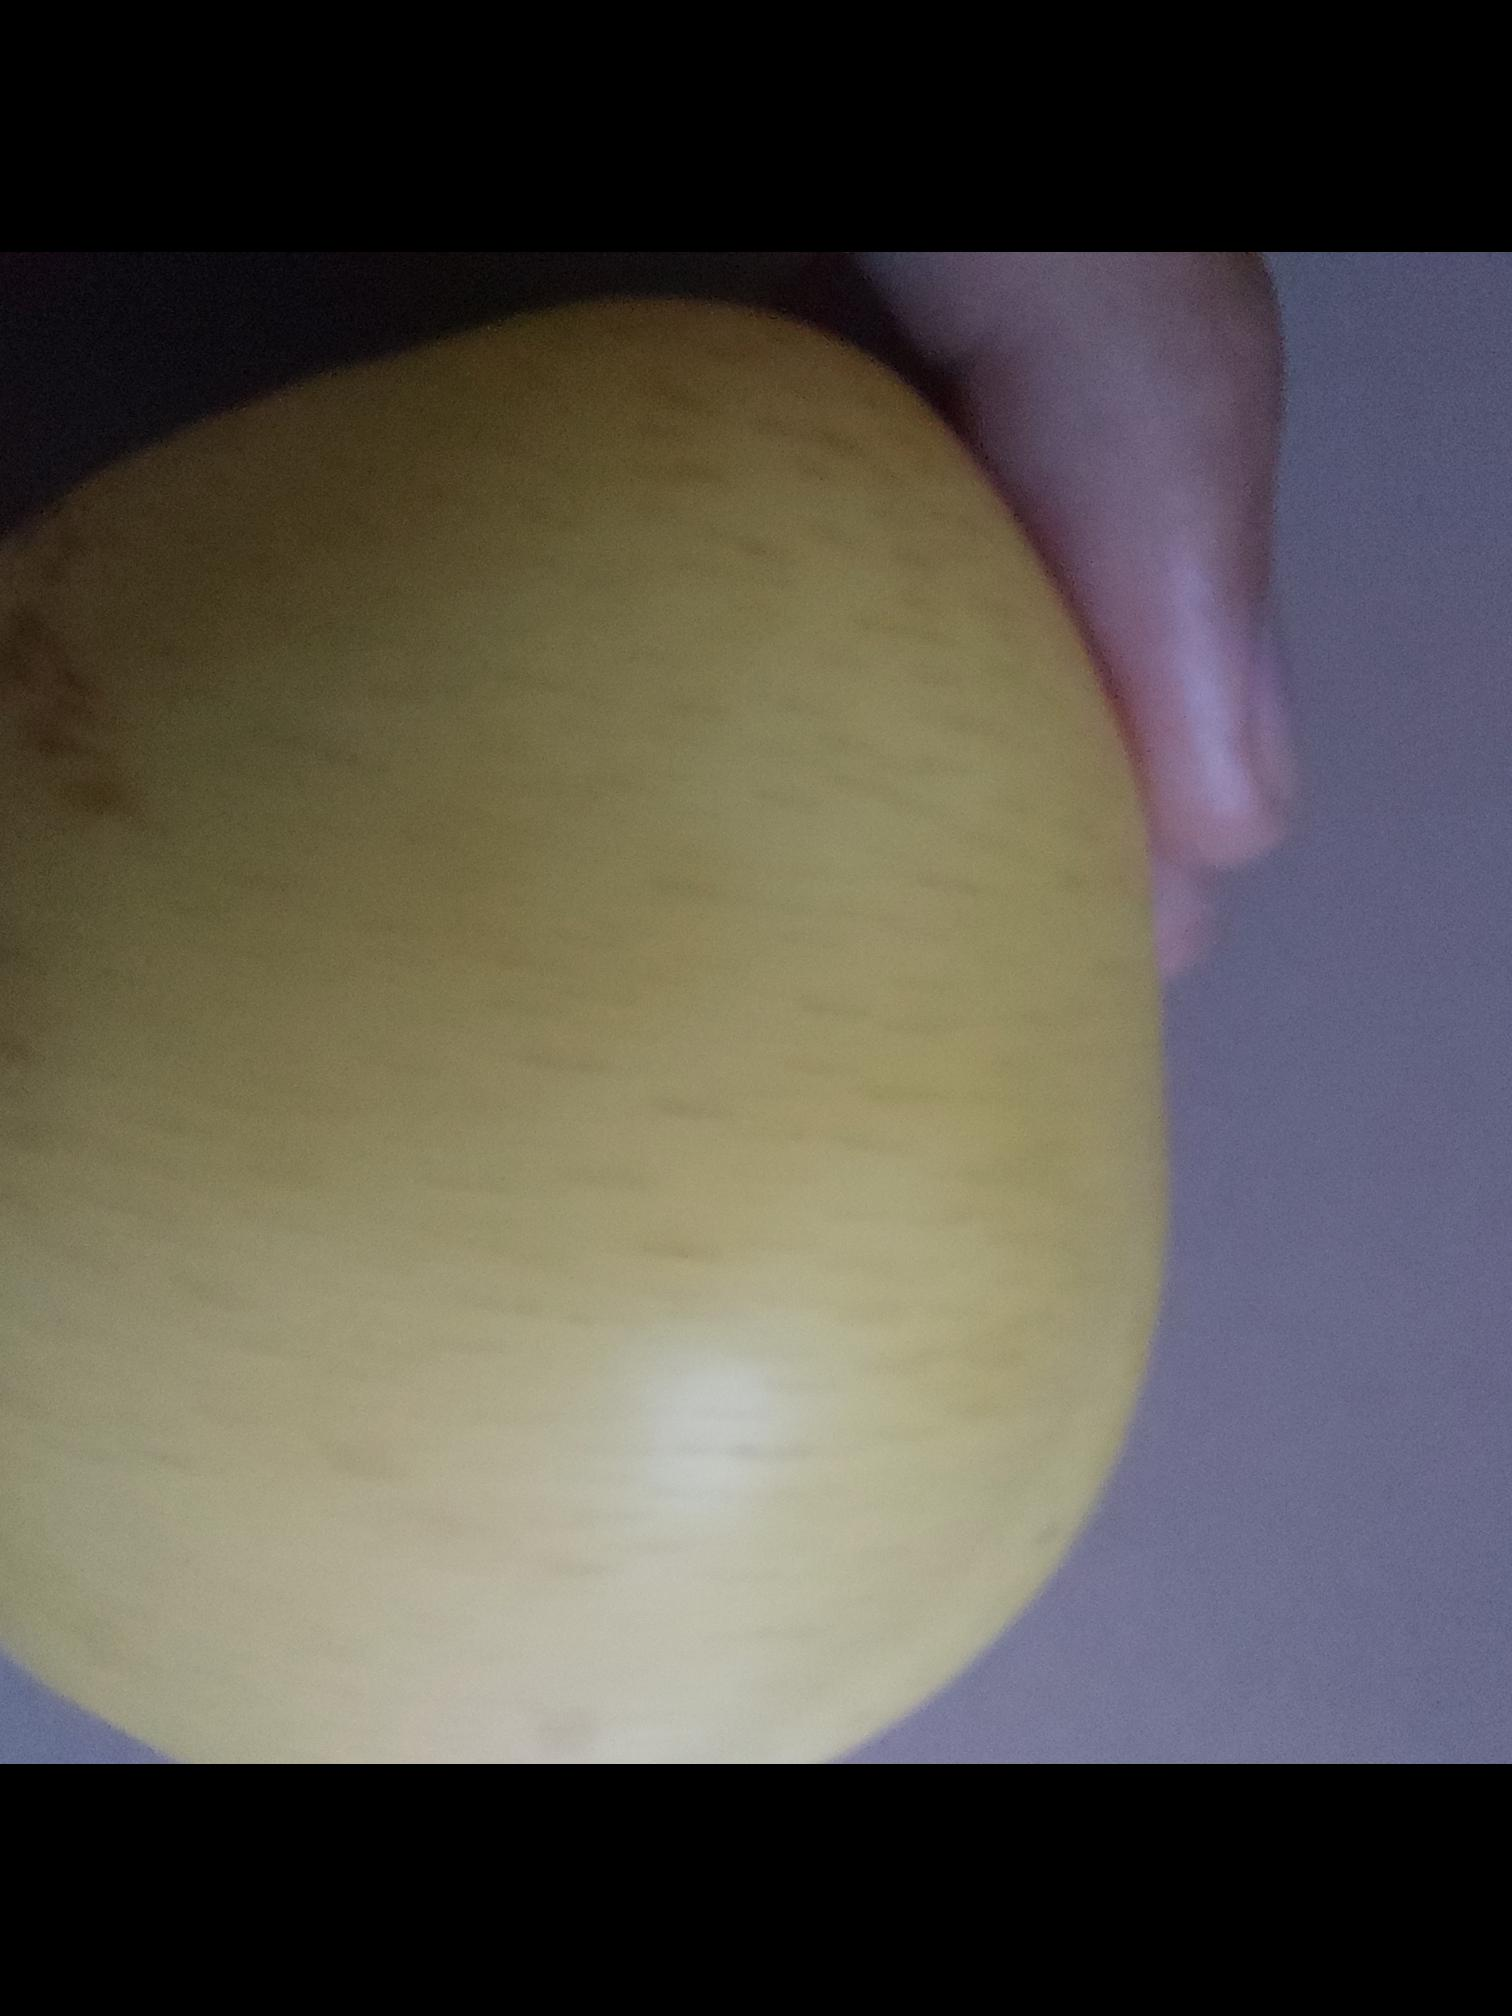Good Pear: (0, 559, 1088, 1757)
